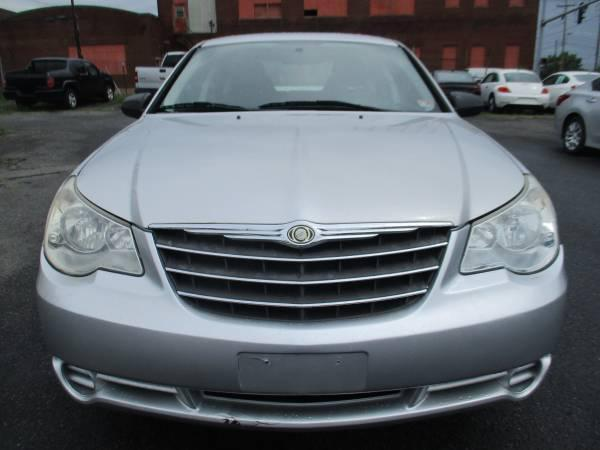Front_Bumper: (29, 245, 558, 419)
Front_Windshield: (146, 34, 447, 115)
Grille: (136, 225, 468, 320)
Hood: (73, 107, 524, 234)
Left_Headlight: (463, 174, 559, 273)
Left_Mirror: (452, 90, 486, 115)
Right_Headlight: (44, 171, 145, 278)
Right_Mirror: (119, 88, 148, 120)
